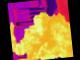Foc: (9, 9, 56, 59), (51, 10, 73, 57)
